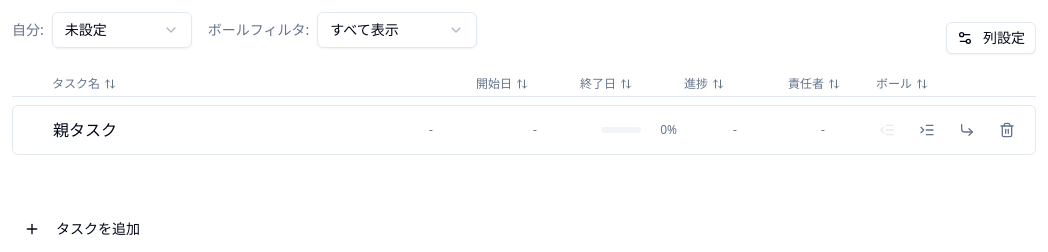
Scenario: TaskList › サブタスク追加のインライン入力 › サブタスク追加ボタンをクリックすると親タスクの直下に入力フィールドが表示される
The width and height of the screenshot is (1048, 252).
# サブタスク追加ボタンをクリック
Step 1. Click the button named "サブタスクを追加" → click(967, 130), box top-left (951, 114), bottom-right (983, 146)
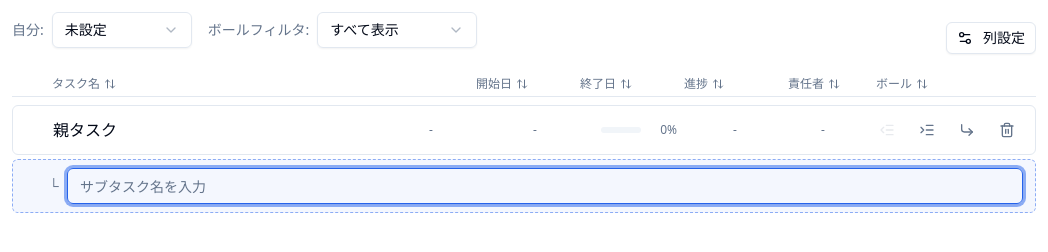
expect the field with placeholder "サブタスク名を入力" is shown: met, box top-left (67, 168), bottom-right (1023, 204)
expect the list item with test id "inline-subtask-input" is shown: met, box top-left (12, 159), bottom-right (1036, 213)
